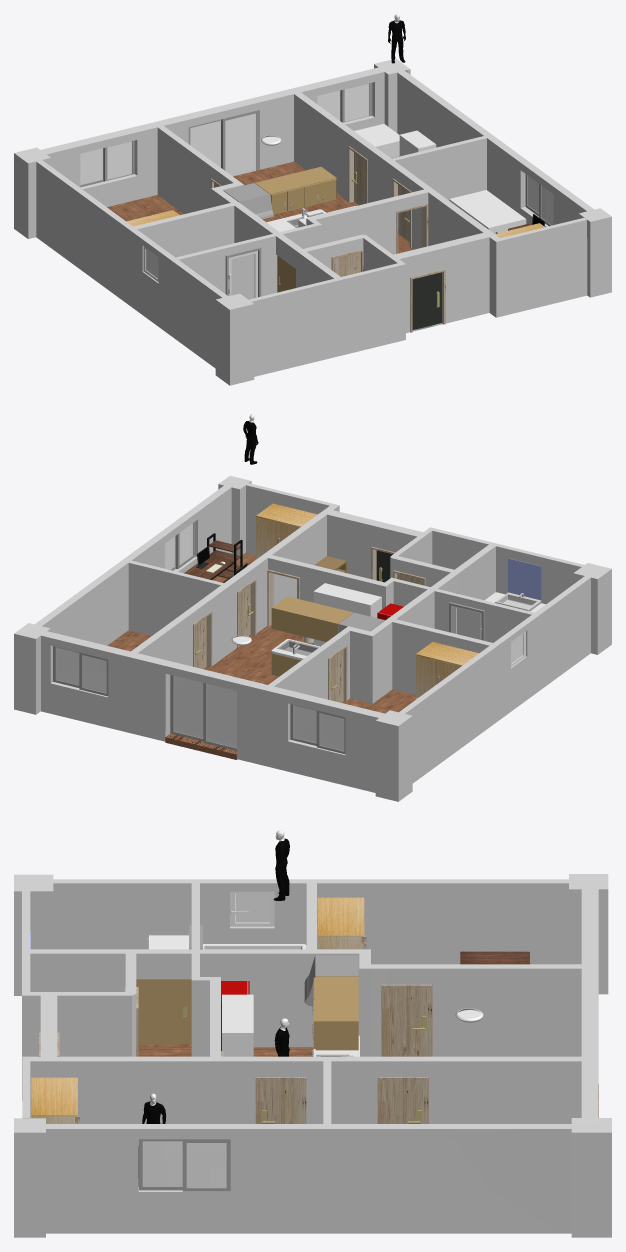
Rendered from Room_ver7.fbx.
3 views of the same model, one above another, from view 1: azimuth 30°, elevation 25°; view 2: azimuth 150°, elevation 25°; view 3: azimuth 270°, elevation 25° (orthographic). The views are drawn at different scales.
Parts seen in each view (by area): view 1: Wall1, polySurface74, polySurface131, polySurface65, polySurface153, polySurface166, polySurface133, polySurface268, polySurface135, polySurface151, polySurface244, polySurface59 (+9 smaller); view 2: Wall1, polySurface74, polySurface268, polySurface133, polySurface131, polySurface6, Mirror, polySurface149, polySurface137, polySurface135, polySurface151, polySurface222 (+11 smaller); view 3: Wall1, polySurface309, polySurface268, polySurface236, polySurface161, pasted__polySurface208, polySurface163, pasted__polySurface207, polySurface6, polySurface227, polySurface146, polySurface169 (+9 smaller).
Boxes of the visible parts, box(x1,y1,x2,y2) form: Wall1: box(14, 58, 611, 385); polySurface74: box(107, 156, 413, 253); polySurface131: box(221, 110, 259, 176); polySurface65: box(449, 190, 526, 233); polySurface153: box(412, 272, 441, 329); polySurface166: box(228, 251, 257, 299); polySurface133: box(188, 119, 221, 167); polySurface268: box(255, 166, 336, 198); polySurface135: box(103, 140, 134, 181); polySurface151: box(341, 82, 372, 122); polySurface244: box(223, 183, 273, 219); polySurface59: box(354, 124, 399, 158); Wall1: box(14, 475, 611, 801); polySurface74: box(107, 553, 415, 713); polySurface268: box(271, 596, 353, 641); polySurface133: box(203, 683, 236, 750); polySurface131: box(170, 675, 203, 741); polySurface6: box(313, 583, 381, 646); Mirror: box(508, 558, 541, 600); polySurface149: box(79, 652, 108, 696); polySurface137: box(316, 710, 345, 753); polySurface135: box(290, 704, 316, 745); polySurface151: box(53, 646, 79, 687); polySurface222: box(416, 655, 443, 697); Wall1: box(14, 874, 611, 1237); polySurface309: box(136, 979, 191, 1044); polySurface268: box(315, 976, 358, 1050); polySurface236: box(384, 988, 429, 1056); polySurface161: box(182, 1139, 230, 1191); pasted__polySurface208: box(317, 897, 363, 949); polySurface163: box(139, 1139, 182, 1190); pasted__polySurface207: box(31, 1077, 77, 1123); polySurface6: box(222, 994, 253, 1056); polySurface227: box(381, 1080, 425, 1123); polySurface146: box(259, 1080, 303, 1123); polySurface169: box(230, 891, 274, 926).
Size of the model in its own units: 1523 by 901 by 1487.
Materials: 29 (6 with a texture image).
